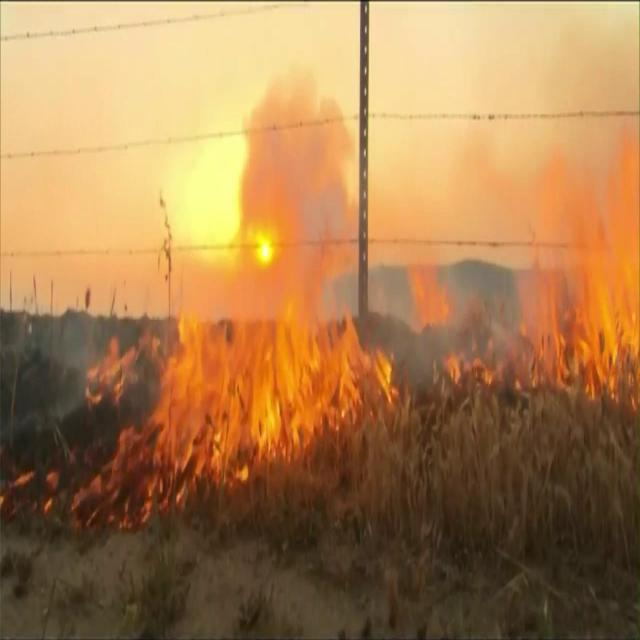fire: (92, 311, 402, 511), (561, 134, 632, 409)
